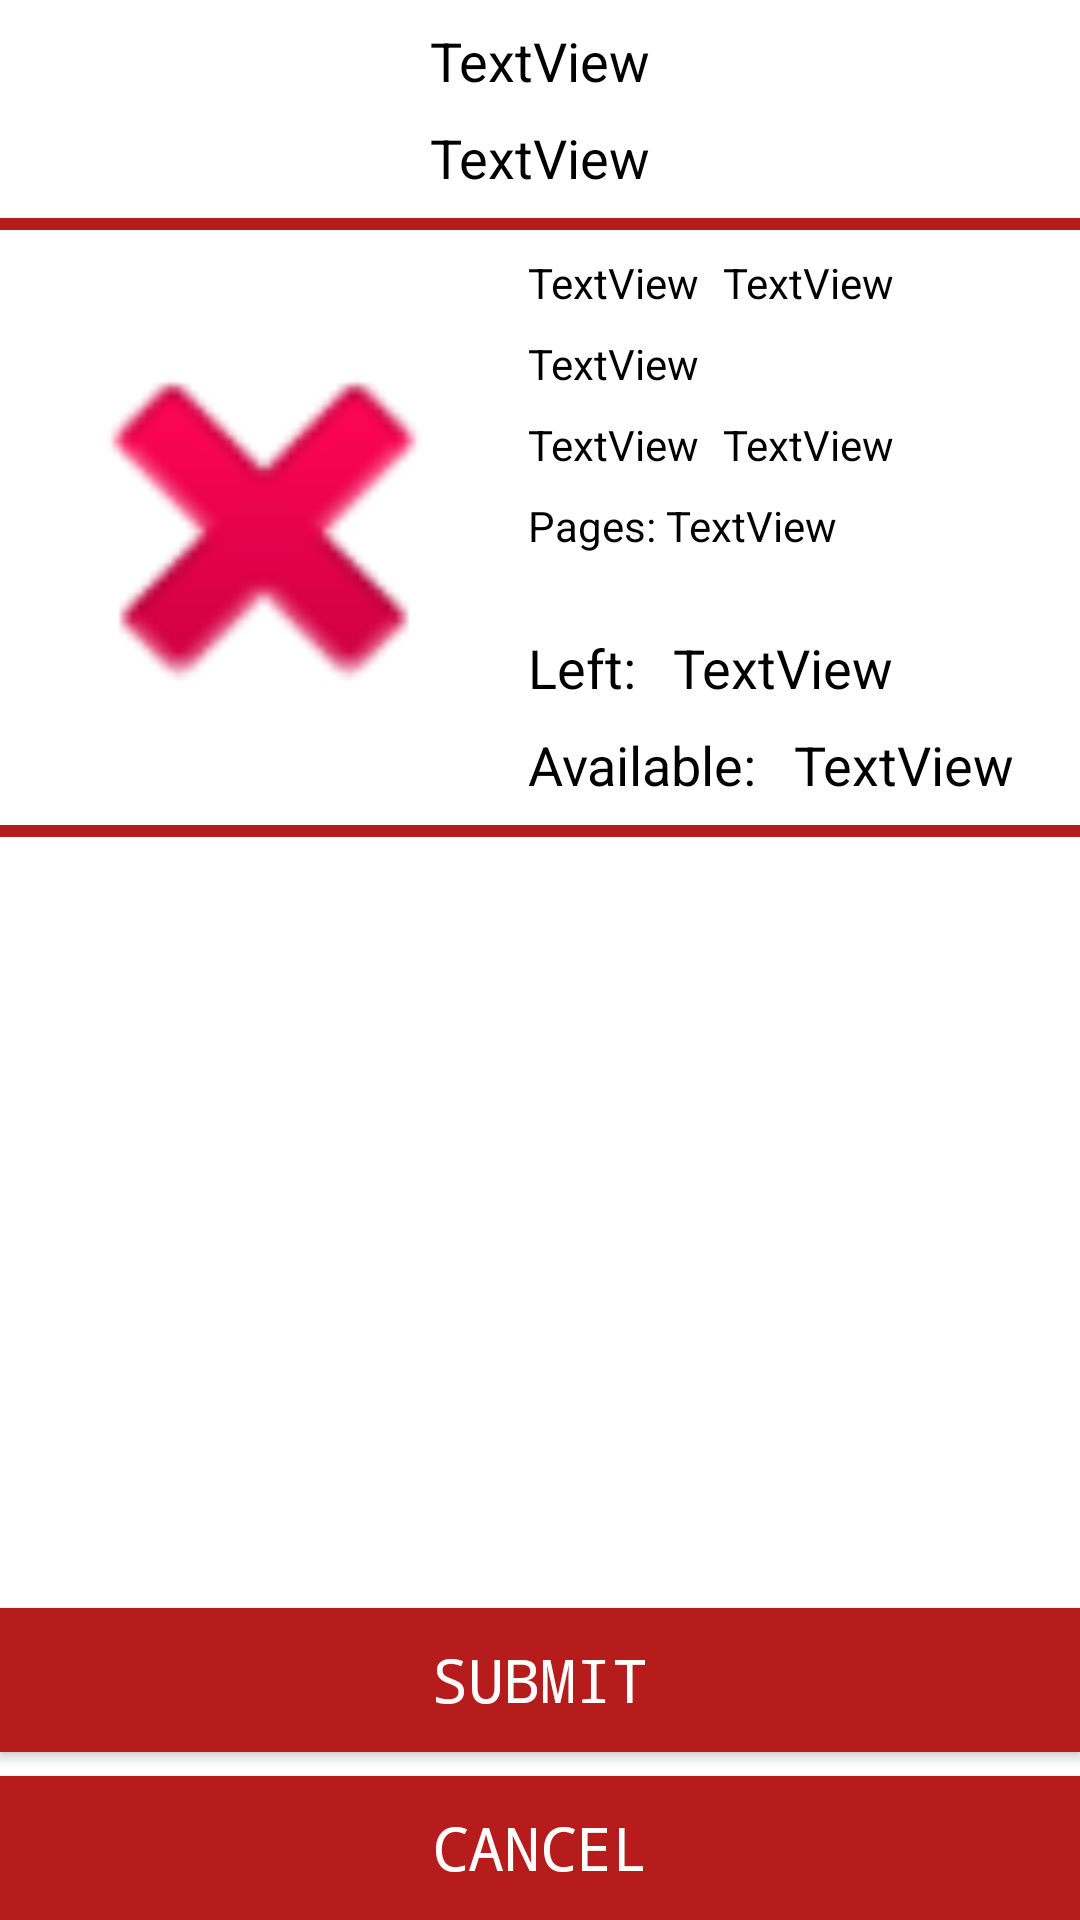

Screen size 1080×1920. Icon name, then its center in pixels as (x,y):
delete: (264,530)
